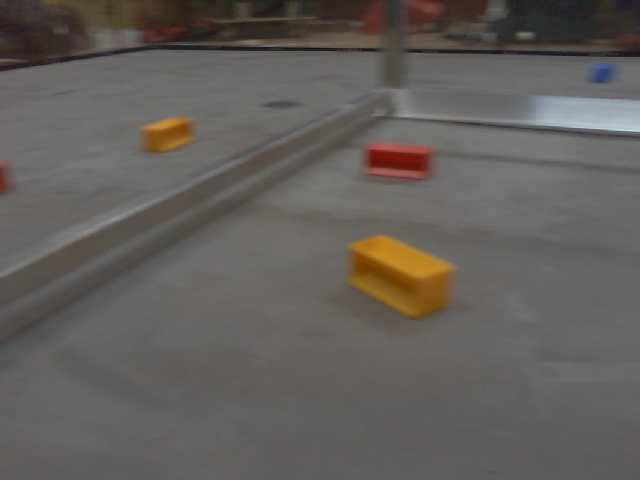BlueSample: (587, 61, 616, 84)
RedSample: (361, 142, 436, 183)
YellowSample: (343, 232, 456, 322), (139, 113, 197, 153)
